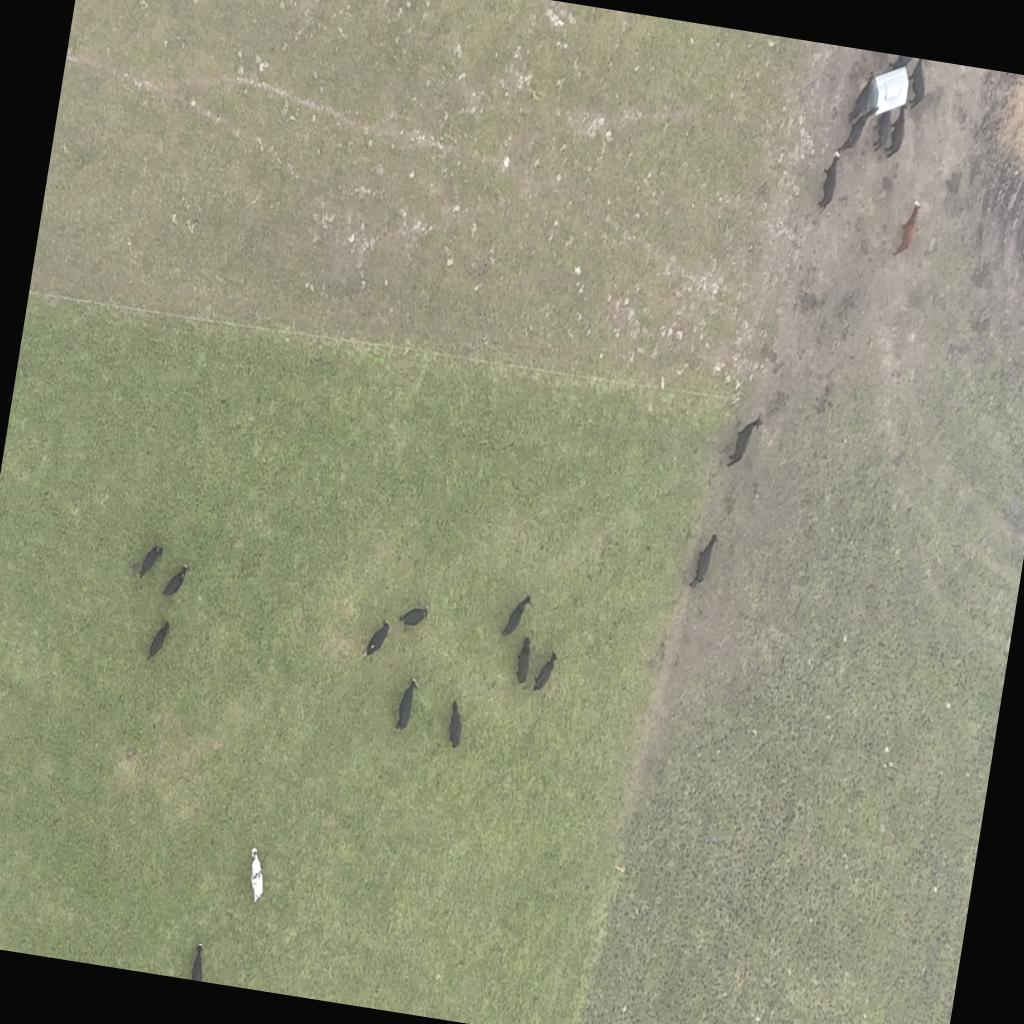cow: (813, 146, 844, 218), (726, 412, 763, 472), (838, 98, 874, 158), (846, 68, 882, 128), (890, 196, 922, 262), (240, 845, 271, 905), (689, 531, 718, 590), (500, 590, 532, 640), (394, 676, 420, 734), (882, 103, 908, 160), (904, 57, 931, 111), (866, 104, 894, 156), (530, 646, 558, 694), (363, 616, 391, 661), (136, 540, 164, 583), (445, 697, 467, 750), (396, 600, 430, 634), (146, 616, 171, 662), (513, 635, 534, 686), (161, 562, 188, 600), (185, 940, 208, 980), (885, 54, 912, 80)
